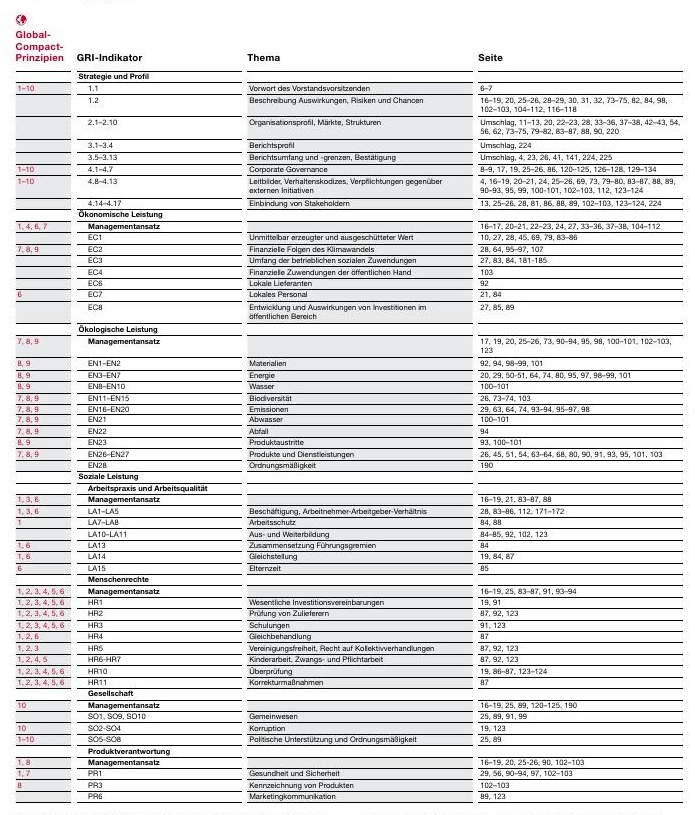table: (0, 0, 695, 815)
